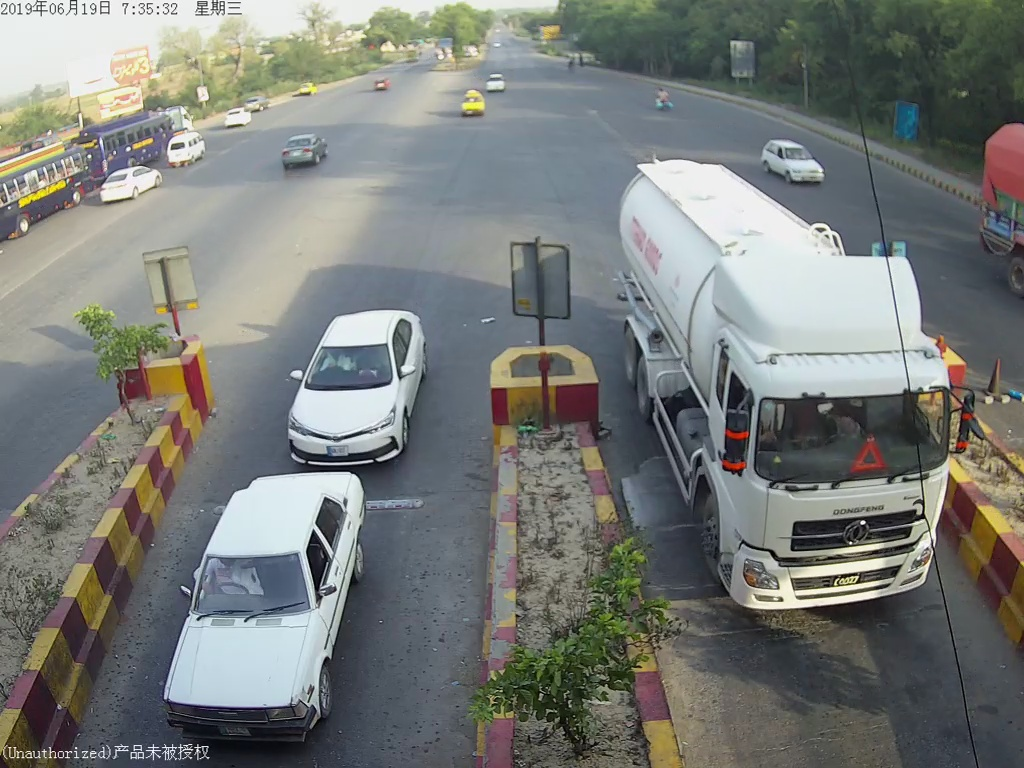Cat-1: (159, 473, 368, 735), (282, 308, 431, 461)
Cat-4: (621, 141, 946, 634)
